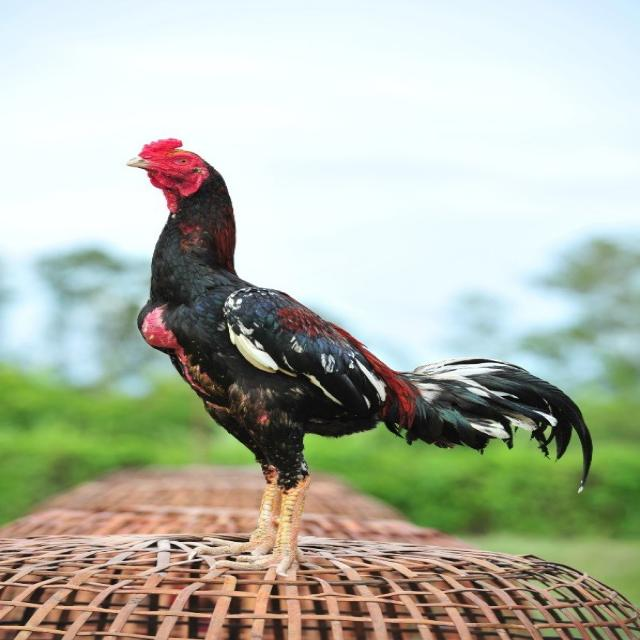Healthy: (63, 124, 628, 582), (373, 332, 615, 514), (98, 131, 252, 220)
